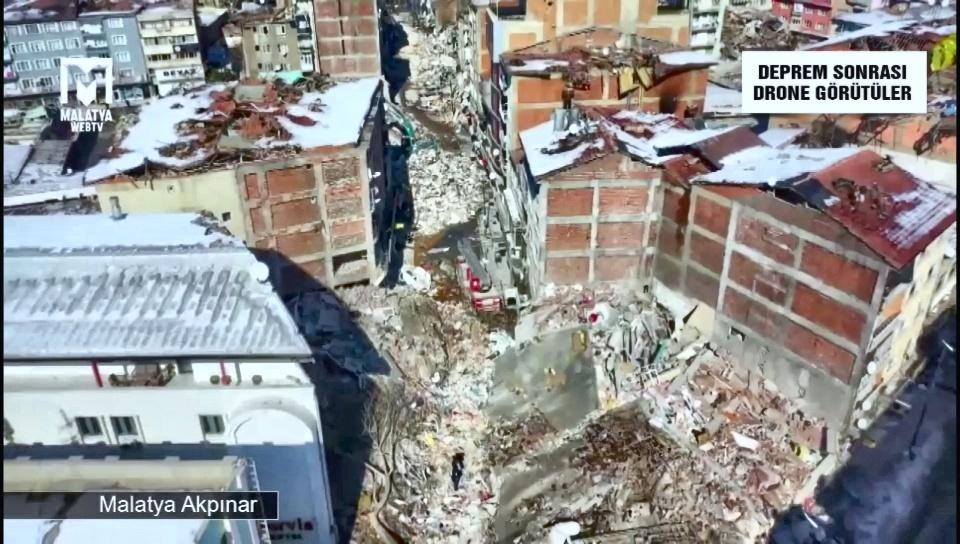kapali: (348, 269, 553, 543), (393, 135, 507, 258), (388, 32, 469, 135)
